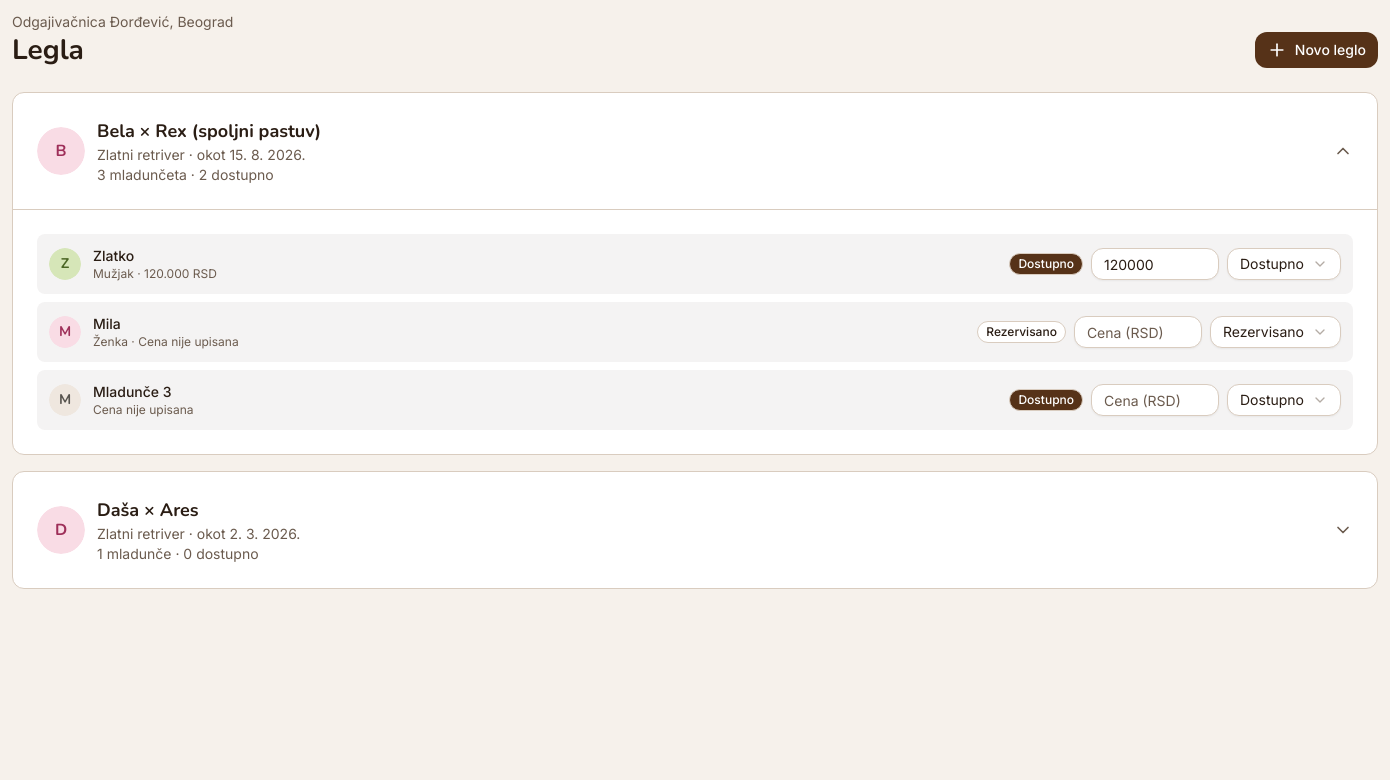
Test: S22 — default (EP-61 list) › toggles a litter open and closed
This screenshot has width=1390, height=780.
What coordinates should you click on to do the following:
click the button "Daša × Ares"
I would click on:
 (695, 530)
Its box is [13,472,1377,588].
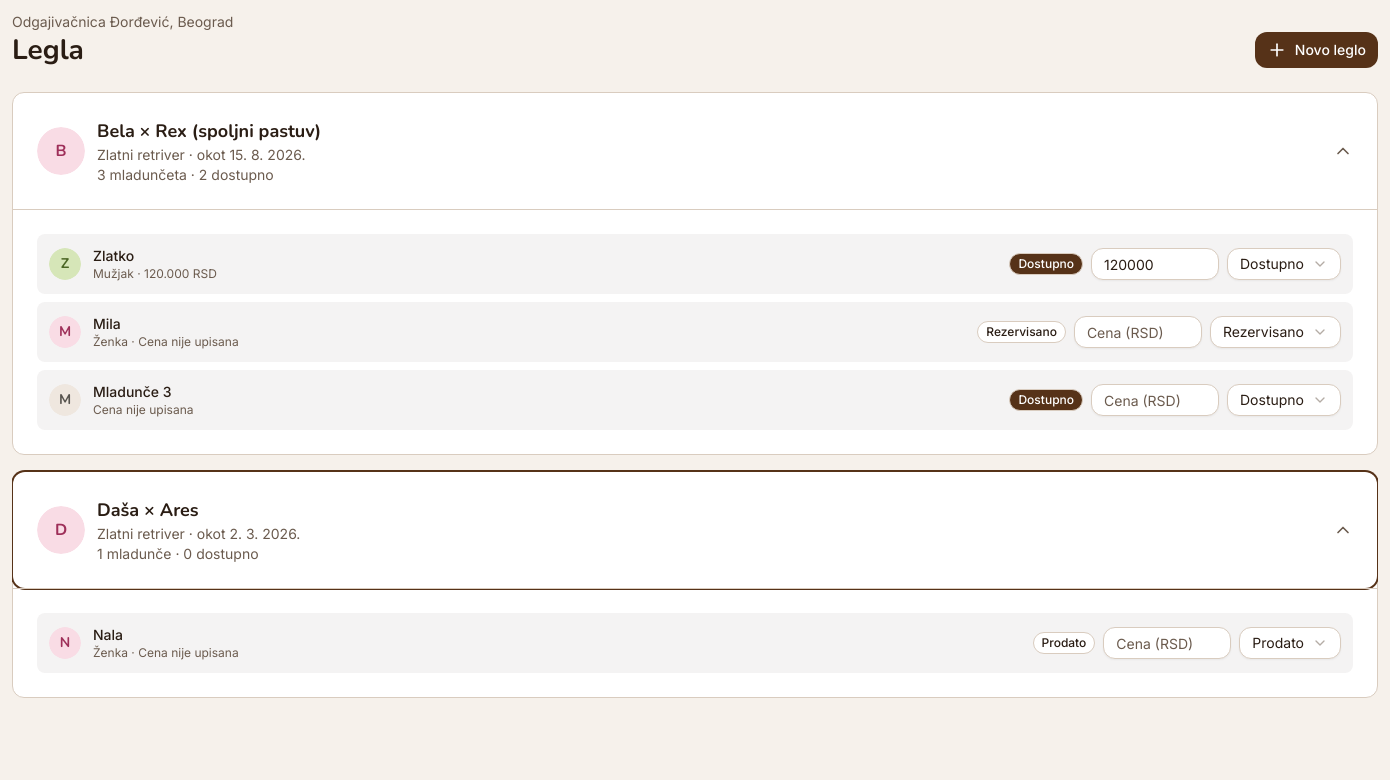
Result: the link "Nala" is shown at [93,626,123,643]
What coordinates should you click on to do the following:
click the button "Bela × Rex"
I would click on:
 (695, 151)
Its box is [13,93,1377,209].
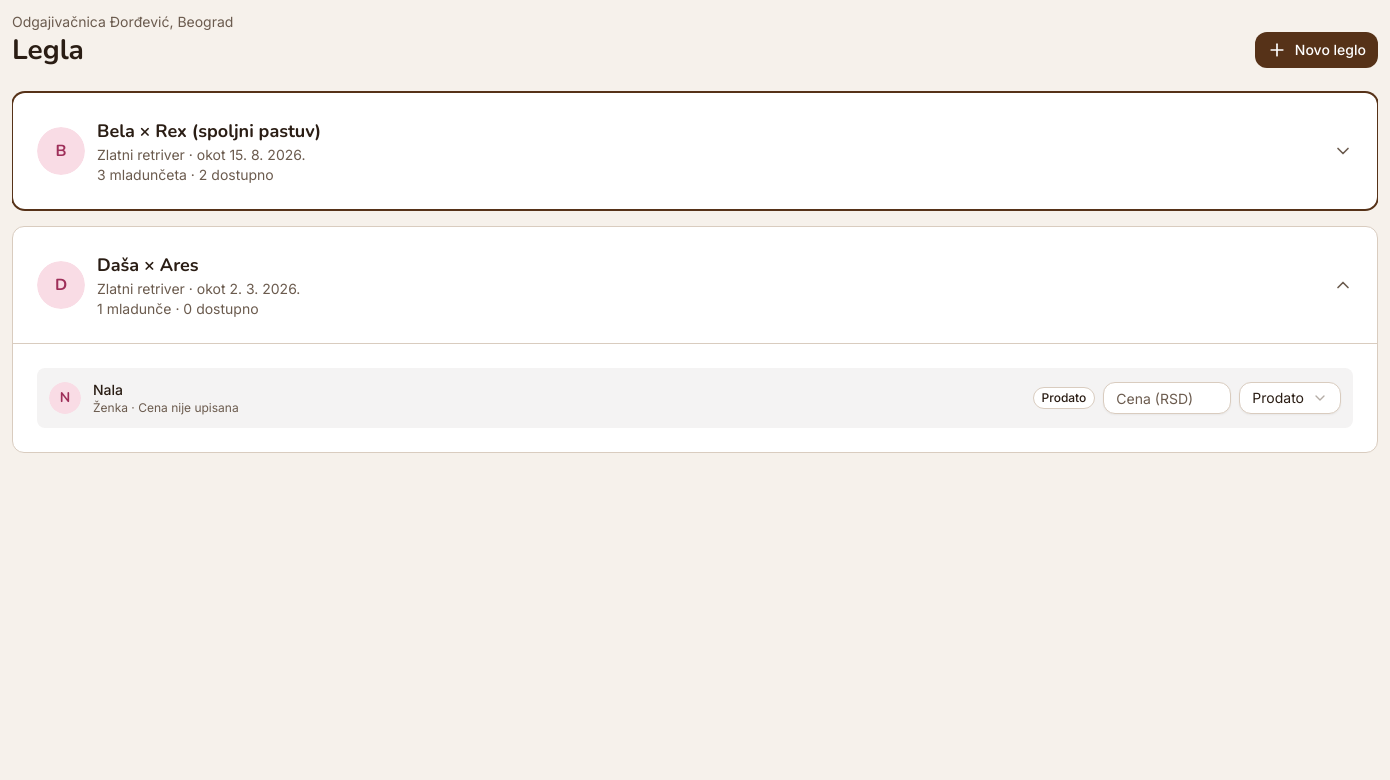
Result: the link "Zlatko" is gone
